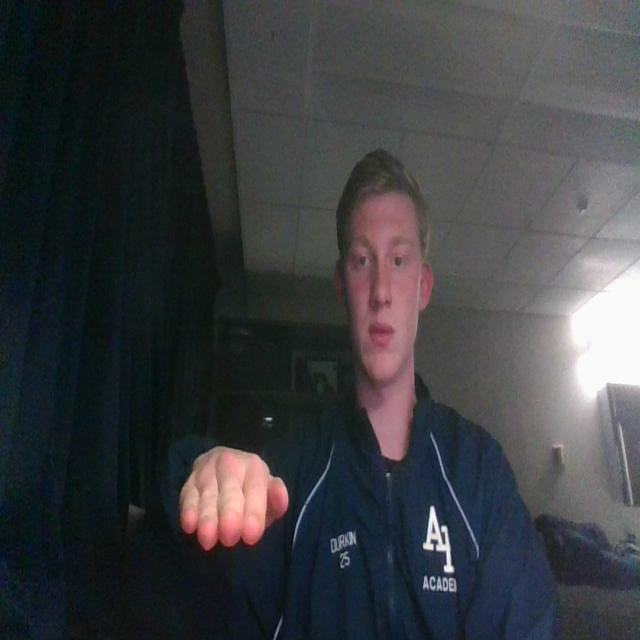paper: (175, 433, 291, 564)
